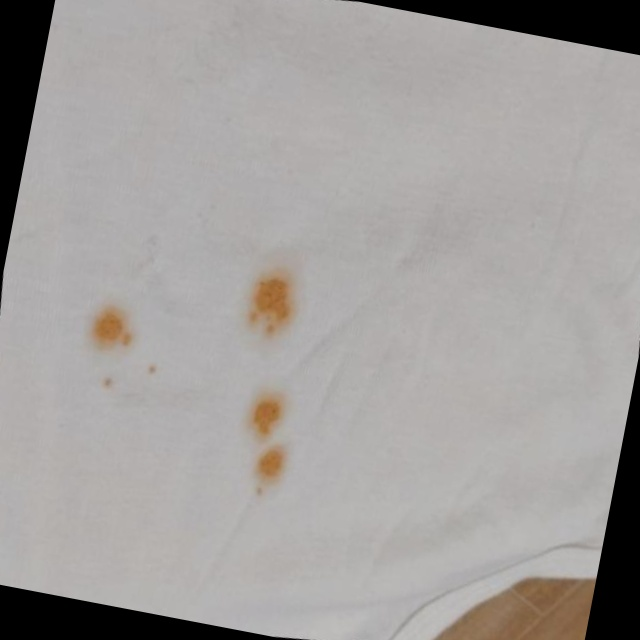kimchi: (76, 288, 153, 366), (240, 258, 307, 345), (248, 446, 300, 510), (242, 385, 293, 447), (89, 371, 122, 399), (144, 356, 174, 383)
